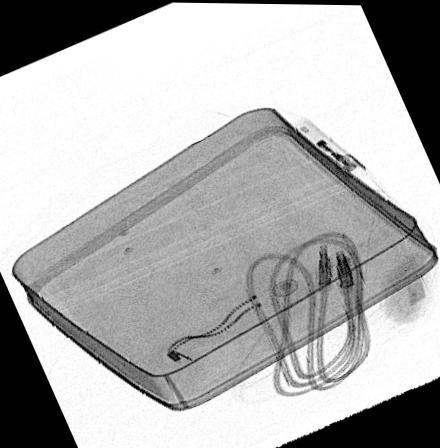Lighter: (290, 115, 368, 179)
